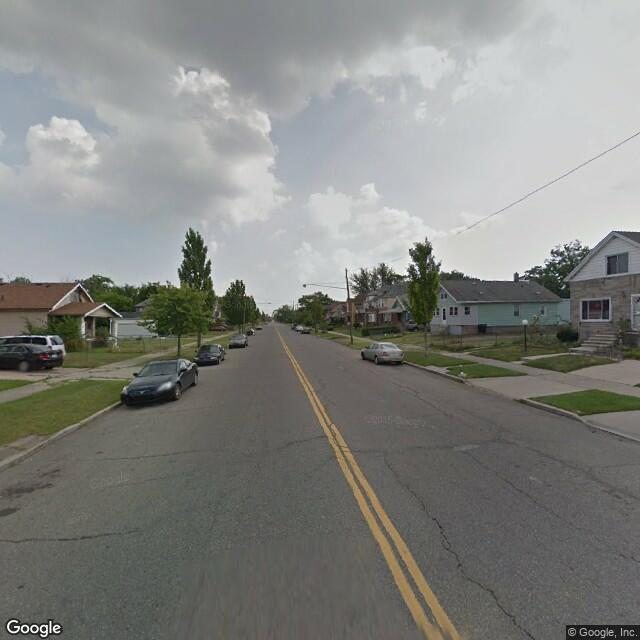litter: (459, 371, 467, 376)
